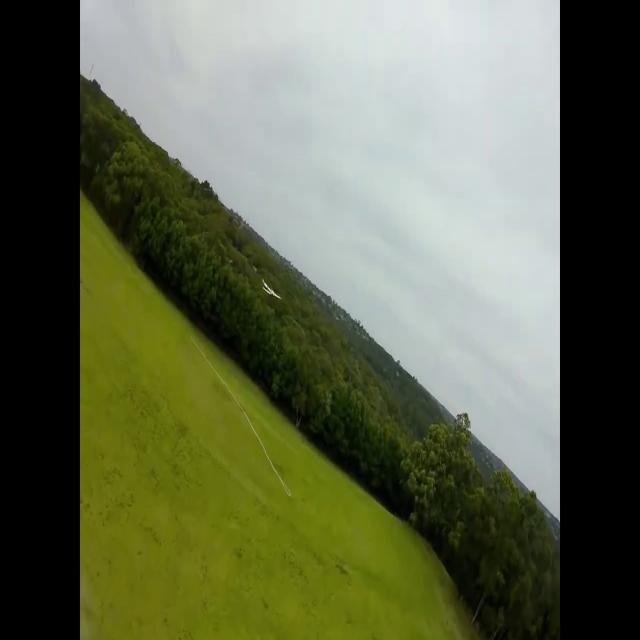iha: (262, 279, 282, 301)
